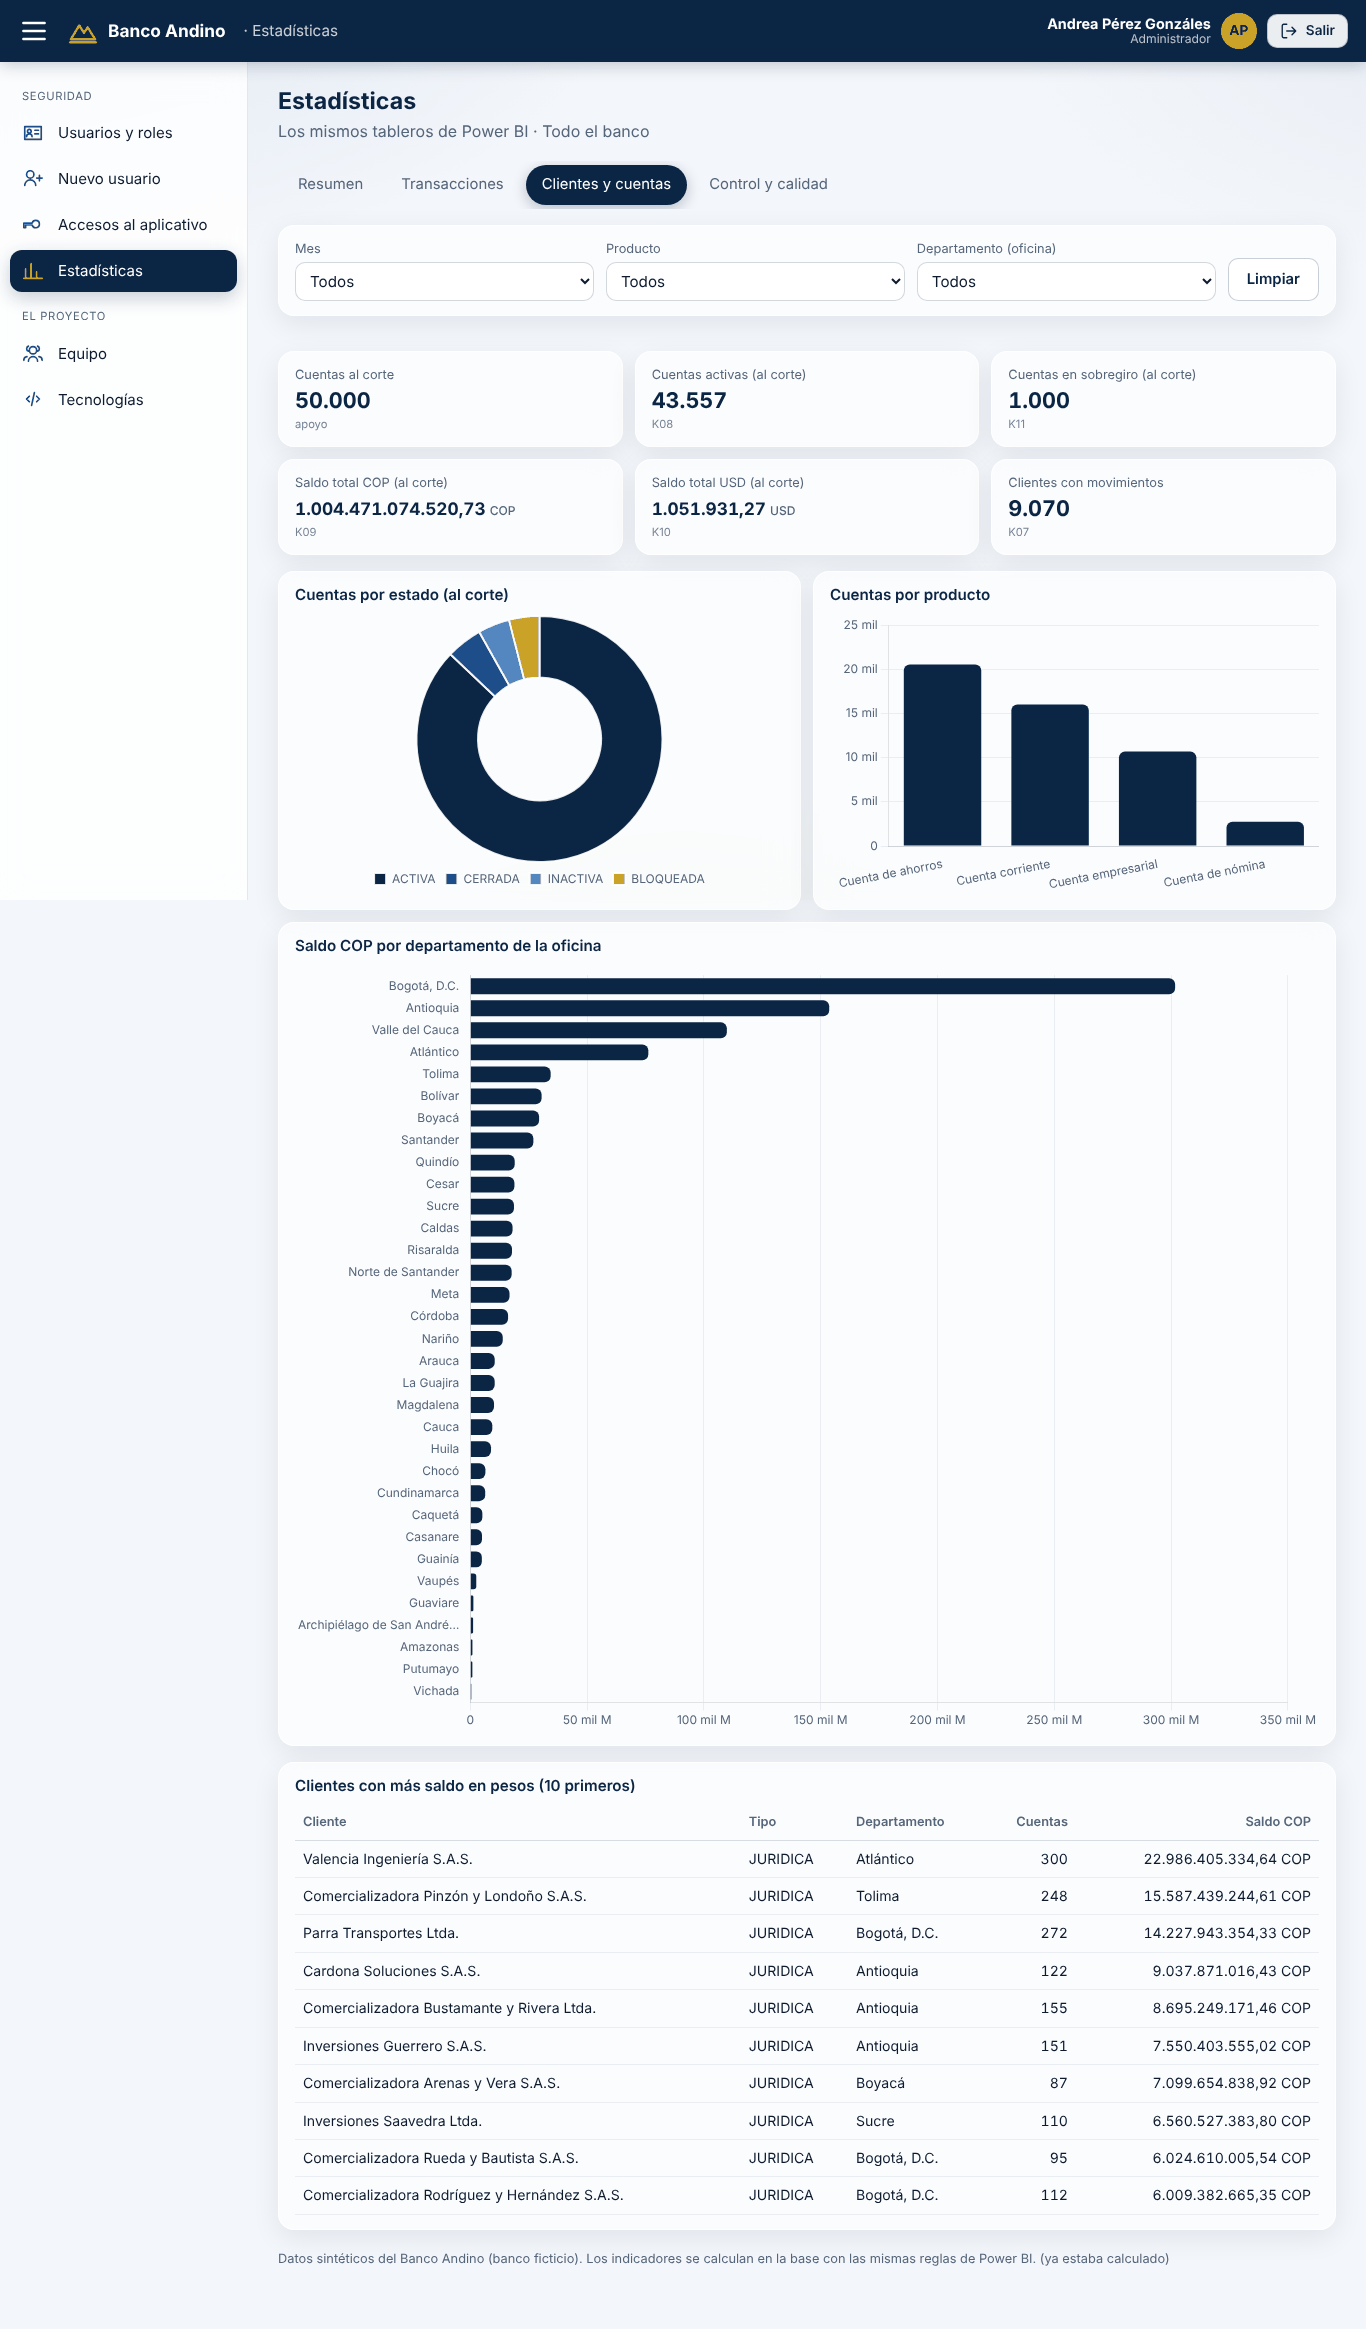

This screenshot's page, from the dashboard's own definition file:
{"tool":"powerbi","page":{"name":"Clientes y cuentas","canvas":[1280,720],"ordinal":2},"visuals":[{"type":"textbox","box":[24,12,520,48],"z":0},{"type":"slicer","title":"Mes","fields":{"Values":["bi dim_fecha.anio_mes"]},"box":[600,10,210,58],"z":1000},{"type":"slicer","title":"Producto","fields":{"Values":["bi dim_producto.producto"]},"box":[825,10,210,58],"z":2000},{"type":"slicer","title":"Departamento (oficina)","fields":{"Values":["bi dim_oficina.departamento"]},"box":[1050,10,210,58],"z":3000},{"type":"card","fields":{"Values":["bi fact_saldo_cuenta.Cuentas al corte"]},"box":[24,84,195.3,96],"z":10000},{"type":"card","fields":{"Values":["bi fact_saldo_cuenta.K08 Cuentas activas"]},"box":[231.3,84,195.3,96],"z":11000},{"type":"card","fields":{"Values":["bi fact_saldo_cuenta.K11 Cuentas en sobregiro"]},"box":[438.7,84,195.3,96],"z":12000},{"type":"card","fields":{"Values":["bi fact_saldo_cuenta.K09 Saldo total COP"]},"box":[646,84,195.3,96],"z":13000},{"type":"card","fields":{"Values":["bi fact_saldo_cuenta.K10 Saldo total USD"]},"box":[853.3,84,195.3,96],"z":14000},{"type":"card","fields":{"Values":["bi fact_transaccion.K07 Clientes con movimientos"]},"box":[1060.7,84,195.3,96],"z":15000},{"type":"donutChart","title":"Cuentas por estado (al corte)","fields":{"Category":["bi fact_saldo_cuenta.estado_cuenta"],"Y":["bi fact_saldo_cuenta.Cuentas al corte"]},"box":[24,196,400,250],"z":20000},{"type":"clusteredColumnChart","title":"Cuentas por producto","fields":{"Category":["bi dim_producto.producto"],"Y":["bi fact_saldo_cuenta.Cuentas al corte"]},"box":[436,196,400,250],"z":21000},{"type":"barChart","title":"Saldo COP por departamento de la oficina","fields":{"Category":["bi dim_oficina.departamento"],"Y":["bi fact_saldo_cuenta.K09 Saldo total COP"]},"box":[848,196,408,502],"z":22000},{"type":"tableEx","title":"Clientes con más saldo en pesos","fields":{"Values":["bi dim_cliente.cliente","bi dim_cliente.tipo_cliente","bi dim_cliente.departamento","bi fact_saldo_cuenta.Cuentas al corte","bi fact_saldo_cuenta.K09 Saldo total COP"]},"box":[24,458,812,240],"z":23000}]}

Visuals, with their boxes on the page's 1280x720 design canvas (x1, y1, x2, y2). These are canvas units, not pixel positions in the 1366x2329 screenshot, which may show the page scaled, cropped or inside an application window:
textbox: crop(24, 12, 544, 60)
"Mes" slicer: crop(600, 10, 810, 68)
"Producto" slicer: crop(825, 10, 1035, 68)
"Departamento (oficina)" slicer: crop(1050, 10, 1260, 68)
card - bi fact_saldo_cuenta.Cuentas al corte: crop(24, 84, 219, 180)
card - bi fact_saldo_cuenta.K08 Cuentas activas: crop(231, 84, 427, 180)
card - bi fact_saldo_cuenta.K11 Cuentas en sobregiro: crop(439, 84, 634, 180)
card - bi fact_saldo_cuenta.K09 Saldo total COP: crop(646, 84, 841, 180)
card - bi fact_saldo_cuenta.K10 Saldo total USD: crop(853, 84, 1049, 180)
card - bi fact_transaccion.K07 Clientes con movimientos: crop(1061, 84, 1256, 180)
"Cuentas por estado (al corte)" donutChart: crop(24, 196, 424, 446)
"Cuentas por producto" clusteredColumnChart: crop(436, 196, 836, 446)
"Saldo COP por departamento de la oficina" barChart: crop(848, 196, 1256, 698)
"Clientes con más saldo en pesos" tableEx: crop(24, 458, 836, 698)
